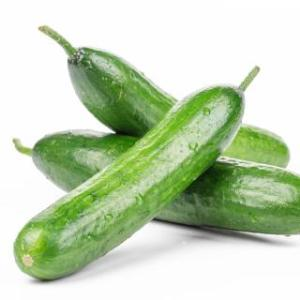cucumber: (10, 78, 248, 282), (25, 132, 300, 234), (68, 44, 292, 168)
